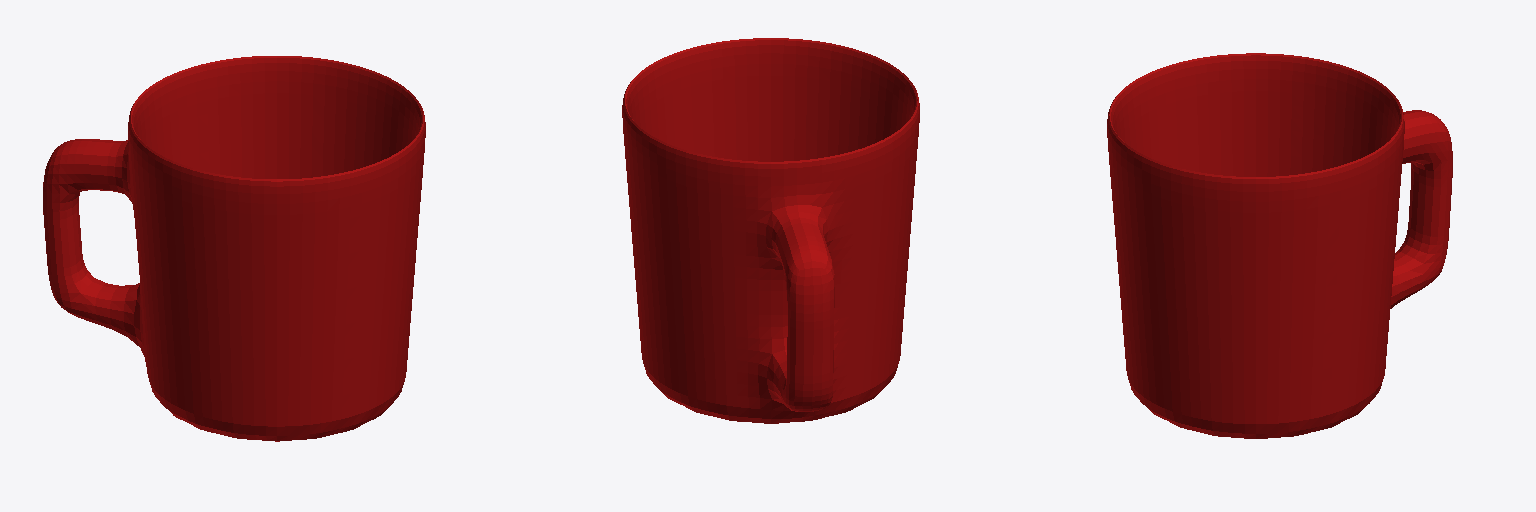
The model's file is mug.obj.
3 renders of one model, left to right at view 1: azimuth 30°, elevation 25°; view 2: azimuth 150°, elevation 25°; view 3: azimuth 270°, elevation 25°, orthographic.
Visible parts, largest first — view 1: Cylinder012; view 2: Cylinder012; view 3: Cylinder012.
Boxes of the visible parts, x1,y1,x2,y2 form: Cylinder012: [43, 56, 425, 441]; Cylinder012: [622, 38, 919, 423]; Cylinder012: [1107, 53, 1452, 438].
Size of the model in its own units: 4.94 by 4.97 by 5.36.